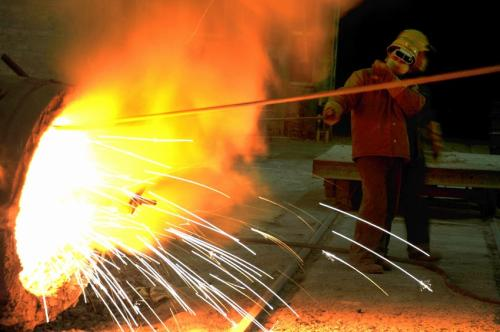boots: (347, 246, 384, 274), (407, 246, 442, 262)
gloves: (370, 58, 394, 82), (322, 99, 343, 125)
hard-hat: (385, 28, 431, 73)
person: (321, 27, 433, 273)
